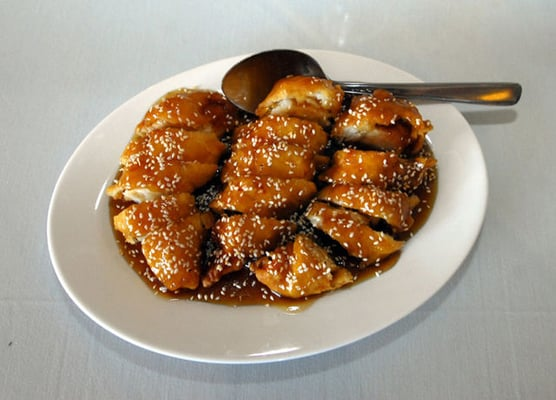burger: (222, 50, 521, 107)
